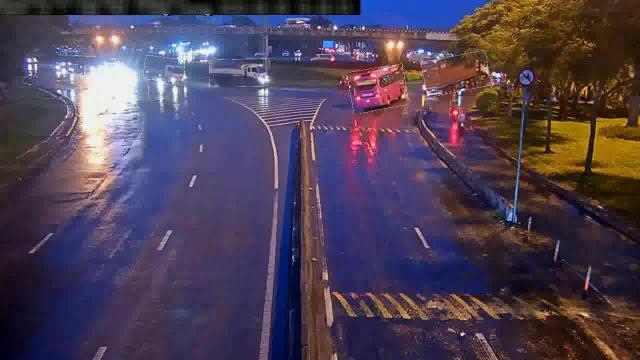Bike: (456, 108, 466, 130), (450, 100, 460, 120)
Bus: (348, 66, 408, 112)
Truck: (422, 54, 490, 94), (210, 59, 268, 87), (143, 56, 184, 82)
